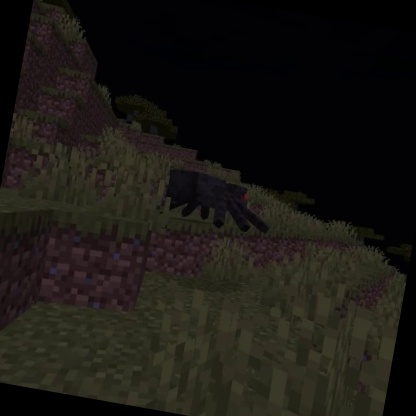spider: (156, 163, 280, 241)
